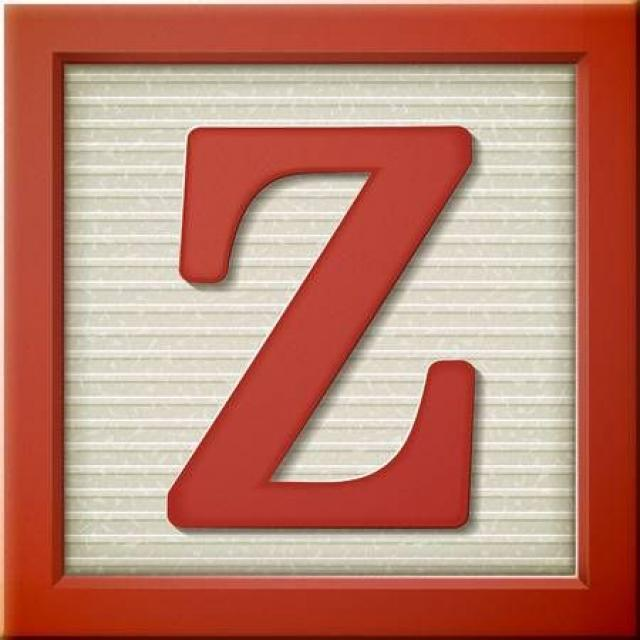Z: (143, 101, 499, 546)
